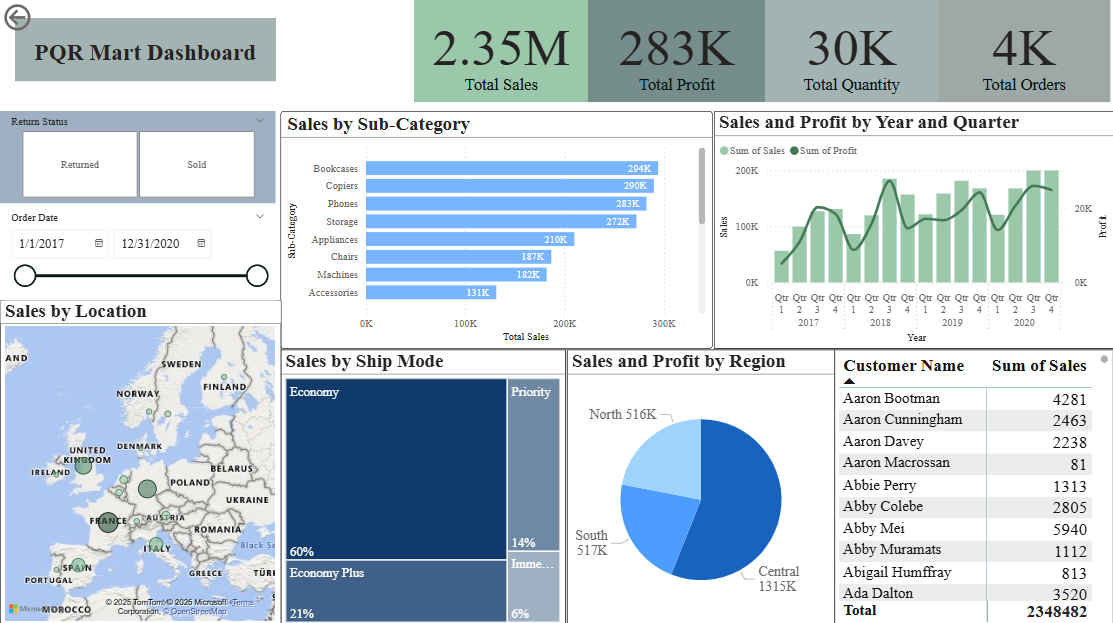

This screenshot's page, from the dashboard's own definition file:
{"tool":"powerbi","page":{"name":"Page 1","canvas":[1280,720],"ordinal":0},"visuals":[{"type":"pivotTable","fields":{"Rows":["List of Orders.Customer Name"],"Values":["Order Breakdown.Sales"]},"box":[959.1,400.9,321.4,319.7],"z":0},{"type":"barChart","title":"Sales by Sub-Category","fields":{"Y":["Order Breakdown.Sales"],"Category":["Order Breakdown.Sub-Category"]},"box":[326.3,127.5,493.6,273.3],"z":1000},{"type":"pieChart","title":"Sales and Profit by Region","fields":{"Y":["Order Breakdown.Sales"],"Category":["List of Orders.Region"]},"box":[651,400.9,308.1,319.7],"z":2000},{"type":"treemap","title":"Sales by Ship Mode","fields":{"Values":["Order Breakdown.Sales"],"Group":["List of Orders.Ship Mode"]},"box":[323,400.9,328,319.7],"z":3000},{"type":"card","fields":{"Values":["Order Breakdown.Sales"]},"box":[475.4,0,200.4,117.6],"z":4000},{"type":"card","fields":{"Values":["Order Breakdown.Profit"]},"box":[675.8,0,203.7,117.6],"z":5000},{"type":"lineClusteredColumnComboChart","title":"Sales and Profit by Year and Quarter","fields":{"Y":["Order Breakdown.Sales"],"Y2":["Order Breakdown.Profit"],"Category":["List of Orders.Order Date.Variation.Date Hierarchy.Year","List of Orders.Order Date.Variation.Date Hierarchy.Quarter","List of Orders.Order Date.Variation.Date Hierarchy.Month","List of Orders.Order Date.Variation.Date Hierarchy.Day"]},"box":[820,127.5,460.5,273.3],"z":6000},{"type":"map","title":"Sales by Location","fields":{"Category":["List of Orders.Country","List of Orders.City"],"Size":["Order Breakdown.Sales"]},"box":[0,344.5,323,376],"z":7000},{"type":"card","fields":{"Values":["Order Breakdown.Quantity"]},"box":[879.6,0,198.8,117.6],"z":8000},{"type":"card","fields":{"Values":["List of Orders.Order ID"]},"box":[1078.4,0,198.8,117.6],"z":9000},{"type":"textbox","box":[16.6,19.9,299.8,72.9],"z":10000},{"type":"slicer","fields":{"Values":["List of Orders.Order Date"]},"box":[0,238.5,316.4,106],"z":11000},{"type":"slicer","fields":{"Values":["Order Breakdown.Return Status"]},"box":[0,127.5,316.4,106],"z":12000},{"type":"actionButton","box":[0,0,100,40],"z":13000}]}

Visuals, with their boxes on the page's 1280x720 design canvas (x1, y1, x2, y2). These are canvas units, not pixel positions in the 1113x623 screenshot, which may show the page scaled, cropped or inside an application window:
pivotTable - List of Orders.Customer Name x Order Breakdown.Sales: (x1=959, y1=401, x2=1280, y2=721)
"Sales by Sub-Category" barChart: (x1=326, y1=128, x2=820, y2=401)
"Sales and Profit by Region" pieChart: (x1=651, y1=401, x2=959, y2=721)
"Sales by Ship Mode" treemap: (x1=323, y1=401, x2=651, y2=721)
card - Order Breakdown.Sales: (x1=475, y1=0, x2=676, y2=118)
card - Order Breakdown.Profit: (x1=676, y1=0, x2=880, y2=118)
"Sales and Profit by Year and Quarter" lineClusteredColumnComboChart: (x1=820, y1=128, x2=1280, y2=401)
"Sales by Location" map: (x1=0, y1=344, x2=323, y2=720)
card - Order Breakdown.Quantity: (x1=880, y1=0, x2=1078, y2=118)
card - List of Orders.Order ID: (x1=1078, y1=0, x2=1277, y2=118)
textbox: (x1=17, y1=20, x2=316, y2=93)
slicer - List of Orders.Order Date: (x1=0, y1=238, x2=316, y2=344)
slicer - Order Breakdown.Return Status: (x1=0, y1=128, x2=316, y2=234)
actionButton: (x1=0, y1=0, x2=100, y2=40)
